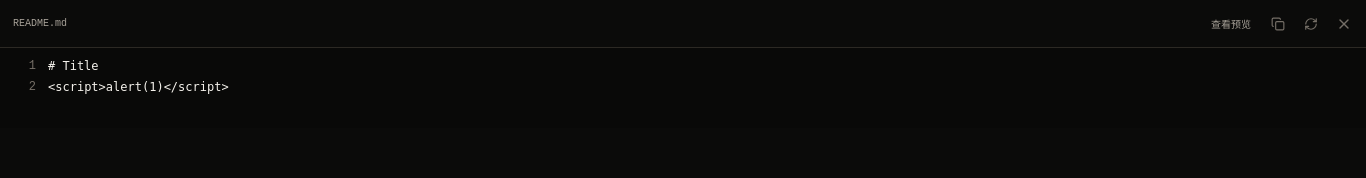
Test case: FilePreview › switches Markdown between source and sanitized preview
The image size is (1366, 178).
Expected: the element with class "source-view" is shown, [0,48,1365,128]
Click the button with test id "toggle-markdown-preview" at [1231, 24], box [1203,11,1259,36]
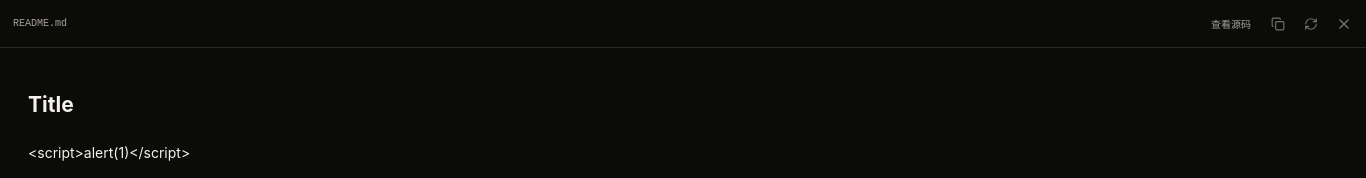
Expected: the element with class "markdown-preview" shows "Title", [28,92,74,117]
